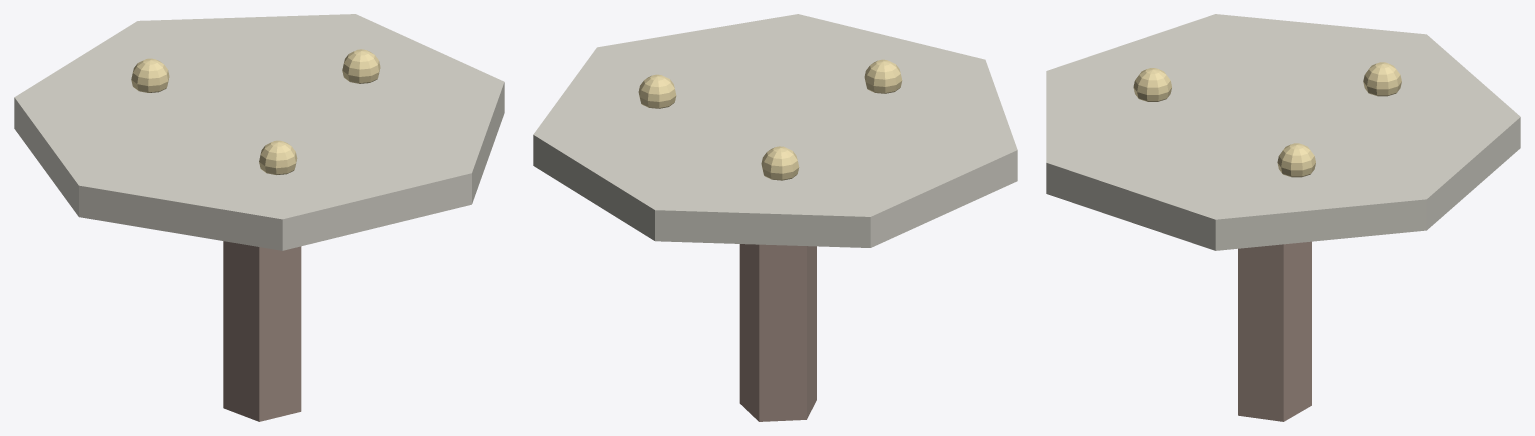
File: moonhill-star-chart-table-01.glb
The picture shows the model from 3 angles, left to right: view 1: azimuth 30°, elevation 25°; view 2: azimuth 150°, elevation 25°; view 3: azimuth 270°, elevation 25°; orthographic projection.
Visible parts, largest first — view 1: ChartTop, TableLeg, Star_0, Star_1, Star_2; view 2: ChartTop, TableLeg, Star_2, Star_1, Star_0; view 3: ChartTop, TableLeg, Star_0, Star_1, Star_2.
Boxes of the visible parts, x1,y1,x2,y2 form: ChartTop: (14,14,504,250); TableLeg: (223,241,301,421); Star_0: (342,49,380,83); Star_1: (131,58,169,92); Star_2: (259,140,297,174); ChartTop: (533,14,1017,247); TableLeg: (739,244,816,421); Star_2: (864,59,902,93); Star_1: (761,146,799,180); Star_0: (638,74,676,108); ChartTop: (1046,14,1520,250); TableLeg: (1238,241,1311,421); Star_0: (1277,143,1315,177); Star_1: (1363,62,1401,96); Star_2: (1133,68,1171,101).
Size of the model in its own units: 1.13 by 0.805 by 1.1.
